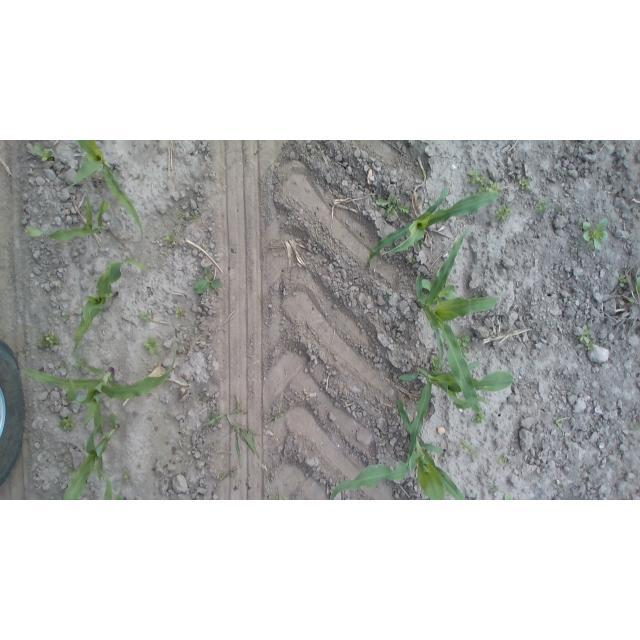Maize: (415, 229, 499, 415), (329, 398, 465, 500), (400, 360, 517, 474), (24, 348, 177, 432), (365, 186, 499, 269), (73, 258, 152, 371), (66, 140, 143, 242), (62, 395, 120, 500), (25, 193, 111, 244), (99, 472, 126, 501)
Weeds: (202, 396, 263, 464), (582, 217, 609, 252), (375, 194, 409, 220), (194, 267, 224, 295), (466, 169, 488, 188), (142, 336, 163, 355), (476, 181, 501, 196), (37, 332, 59, 349), (494, 204, 513, 223), (57, 413, 76, 431), (34, 145, 53, 162), (458, 333, 471, 357), (268, 486, 290, 500), (536, 198, 553, 215), (460, 440, 476, 457), (577, 324, 591, 342), (270, 406, 285, 422), (431, 354, 443, 372), (517, 177, 532, 191), (138, 311, 152, 325), (473, 411, 487, 423), (75, 359, 89, 370), (197, 387, 207, 398), (497, 454, 508, 464), (188, 211, 198, 222), (61, 357, 70, 369), (165, 235, 177, 244), (554, 418, 563, 429), (230, 466, 238, 478), (175, 306, 183, 318), (55, 314, 70, 320), (584, 342, 594, 351), (619, 275, 626, 287), (492, 486, 501, 495), (66, 468, 74, 477), (632, 423, 640, 432), (636, 277, 640, 294), (408, 256, 416, 264), (504, 493, 513, 500), (626, 297, 636, 303), (125, 473, 132, 481), (219, 472, 226, 480), (554, 484, 564, 489), (382, 434, 387, 440), (425, 205, 430, 210), (176, 215, 181, 220), (574, 243, 578, 248), (564, 173, 568, 177)
